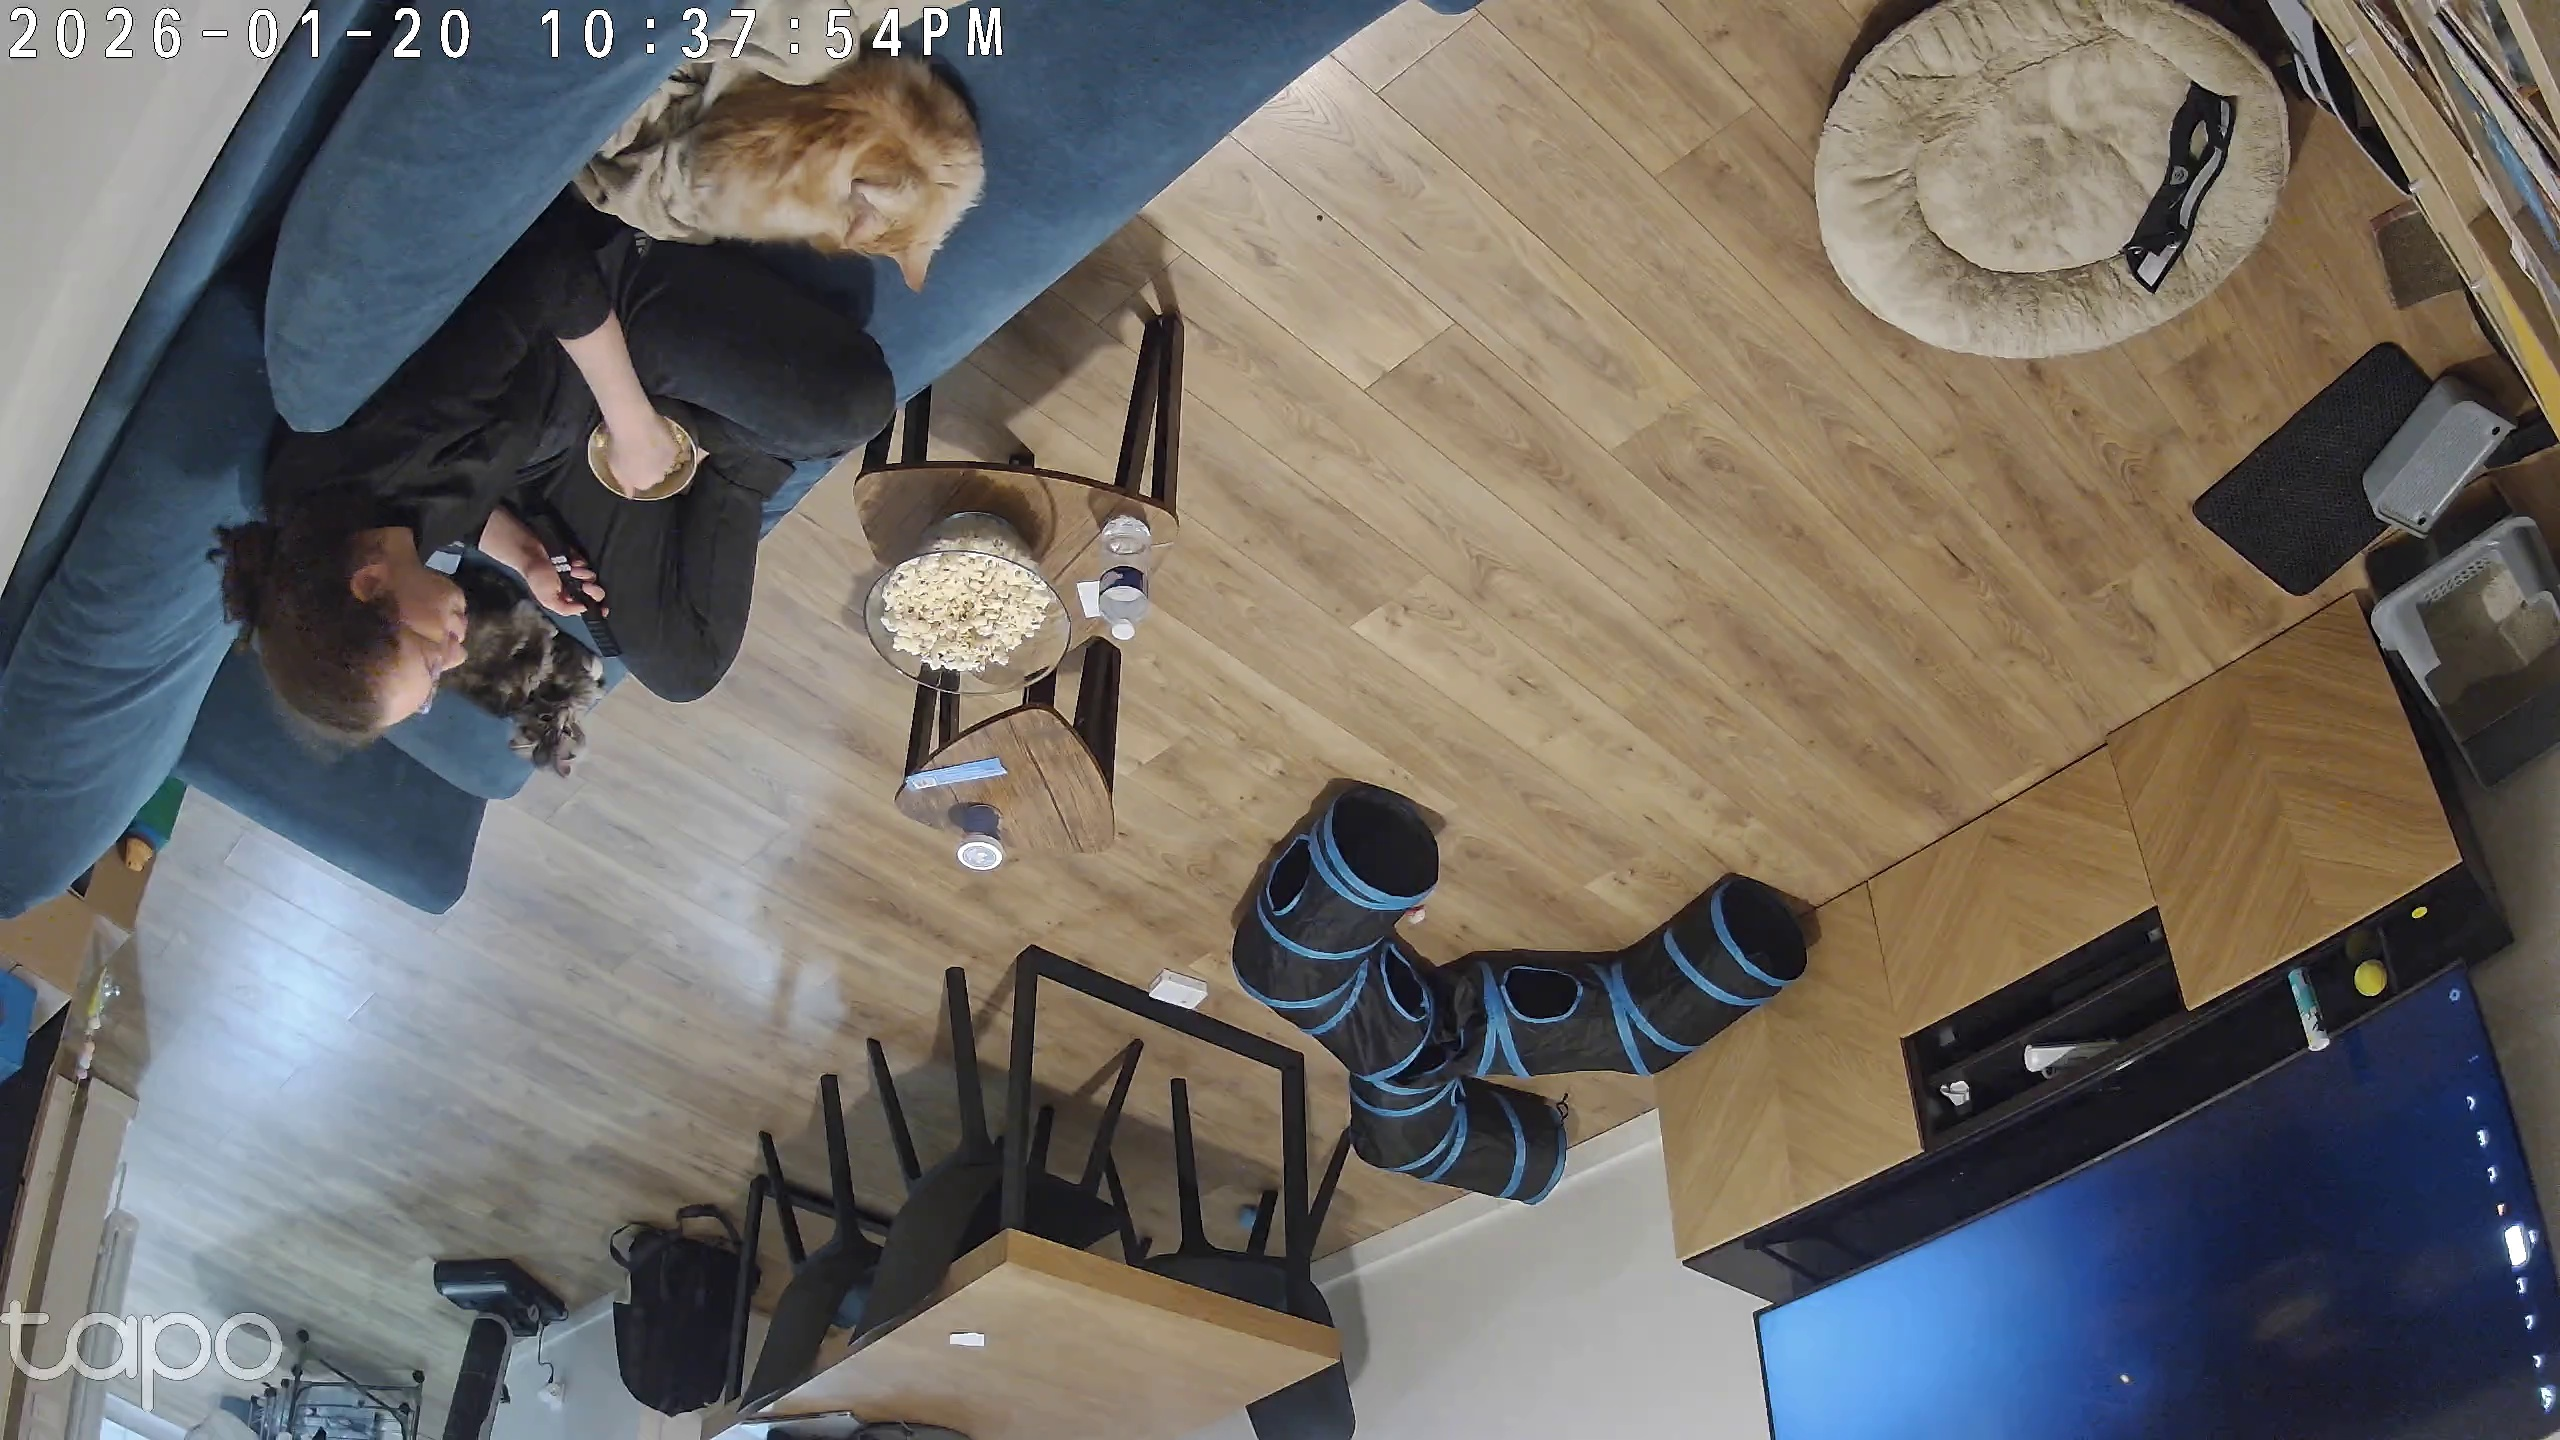Nala: (418, 587, 633, 774)
Simba: (695, 39, 997, 271)
